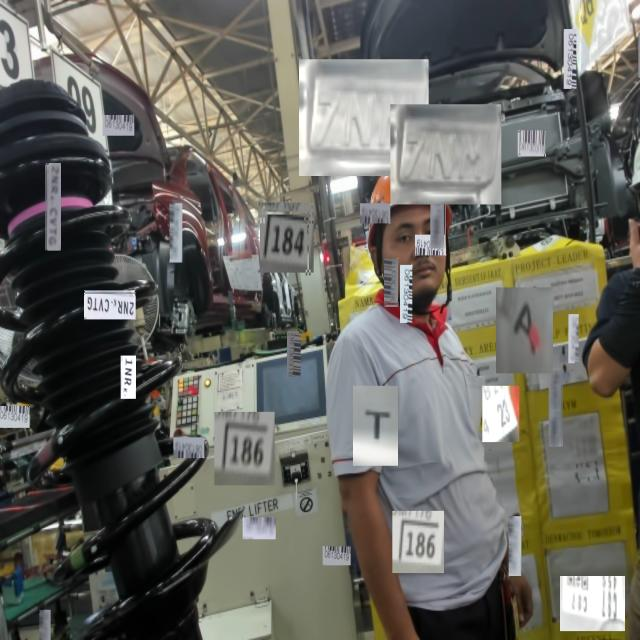Absorber LH-23: (492, 395, 513, 431)
Bumper-PK: (6, 190, 96, 246)
Compressor-A: (508, 301, 542, 359)
Compressor-T: (361, 397, 393, 451)
Engine Assy-184: (270, 218, 306, 260)
Engine Assy-186: (223, 423, 269, 471), (398, 518, 439, 568)
Transaxele-7NM: (315, 88, 404, 148), (404, 126, 486, 181)
Transaxele-C87-A27: (566, 590, 622, 625)
